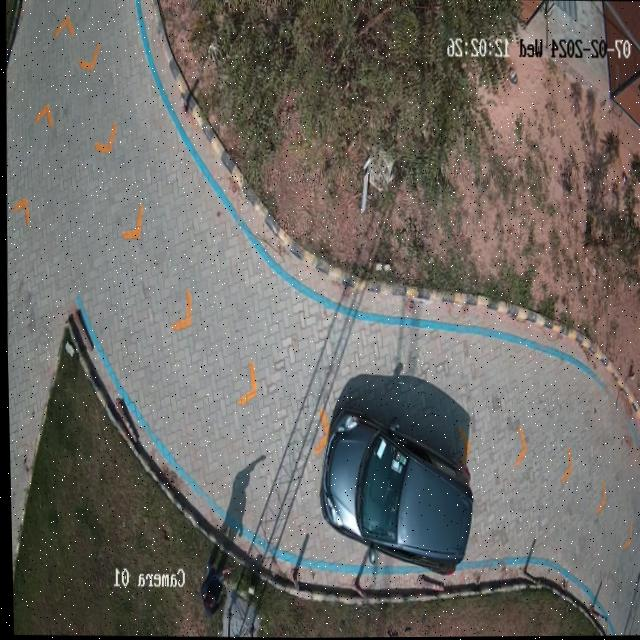car: (318, 412, 469, 574)
